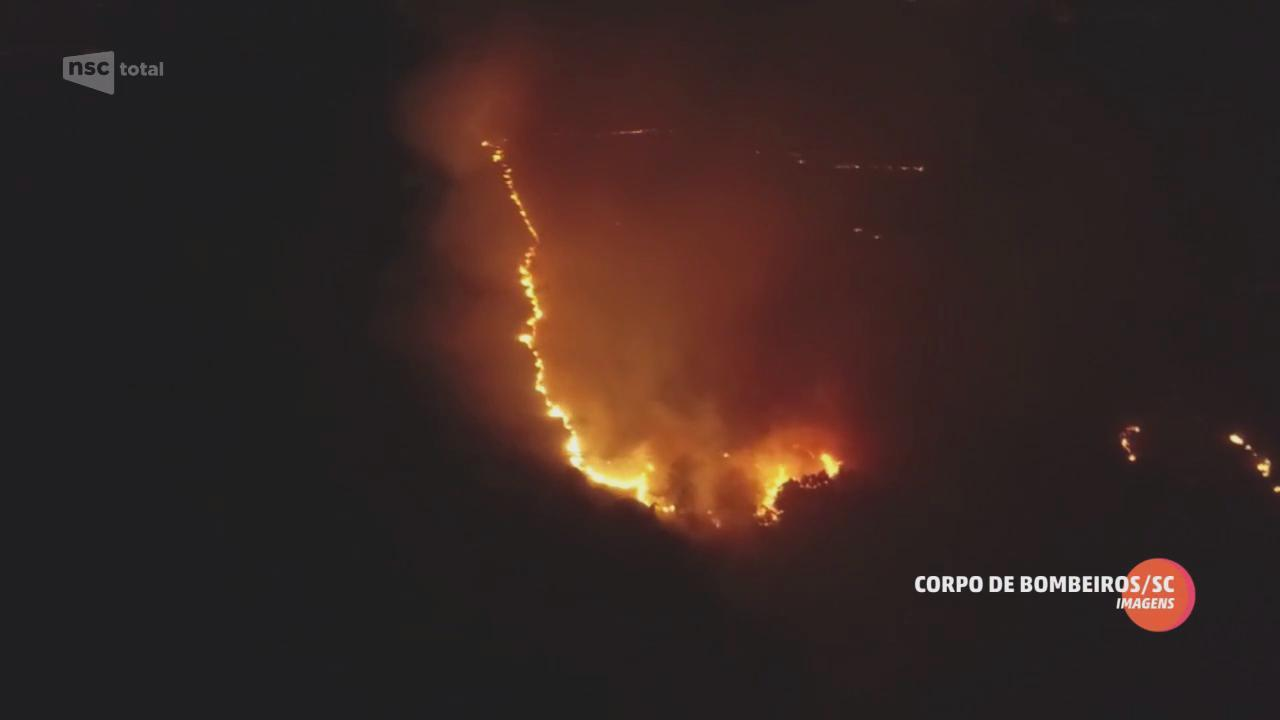Fire: (489, 142, 681, 516), (743, 461, 791, 514), (1234, 436, 1272, 479), (821, 449, 846, 481)
